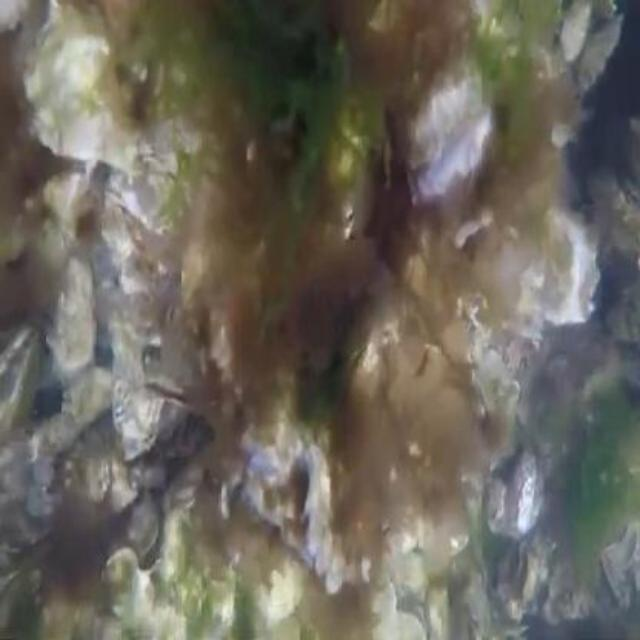Oyster-Closed: (411, 346, 462, 406), (167, 462, 204, 513)
Oyster-Indeterminate: (23, 2, 141, 160), (101, 155, 192, 234), (49, 258, 98, 368), (578, 13, 622, 103), (504, 453, 543, 536), (562, 0, 591, 64), (370, 612, 427, 640), (591, 0, 619, 23)
Oyster-Open: (410, 76, 495, 199), (542, 205, 597, 320), (0, 325, 38, 433), (305, 448, 334, 579), (123, 491, 165, 572), (145, 363, 200, 408), (513, 538, 540, 601)
